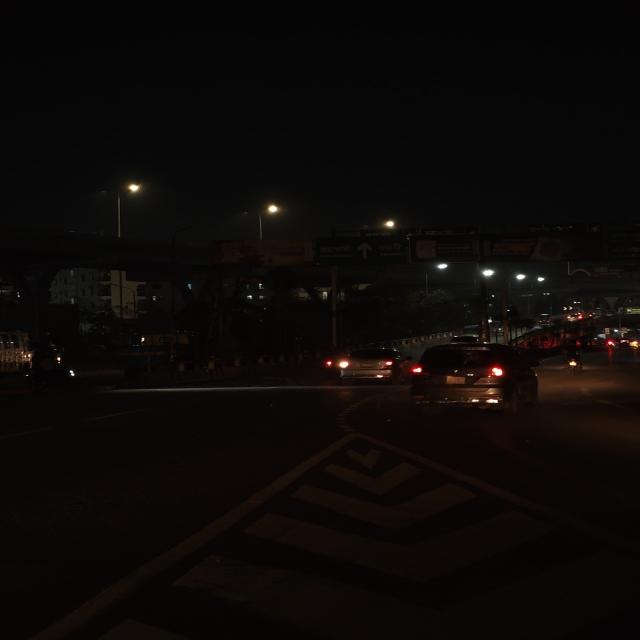car: (408, 343, 544, 415), (332, 344, 412, 384)
motorcycle: (557, 344, 588, 374)
